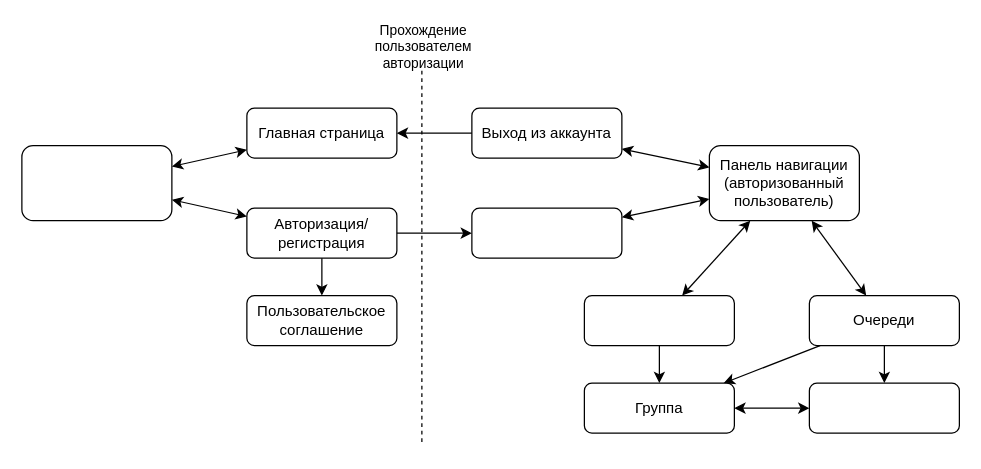
This 981x469 diagram has some shape labels left out. Each missing label, with the box of its shape:
Группы: (583, 294, 734, 346)
Очередь: (808, 382, 959, 433)
Панель навигации (неавторизованный пользователь): (21, 144, 172, 221)
Профиль: (471, 207, 622, 258)
